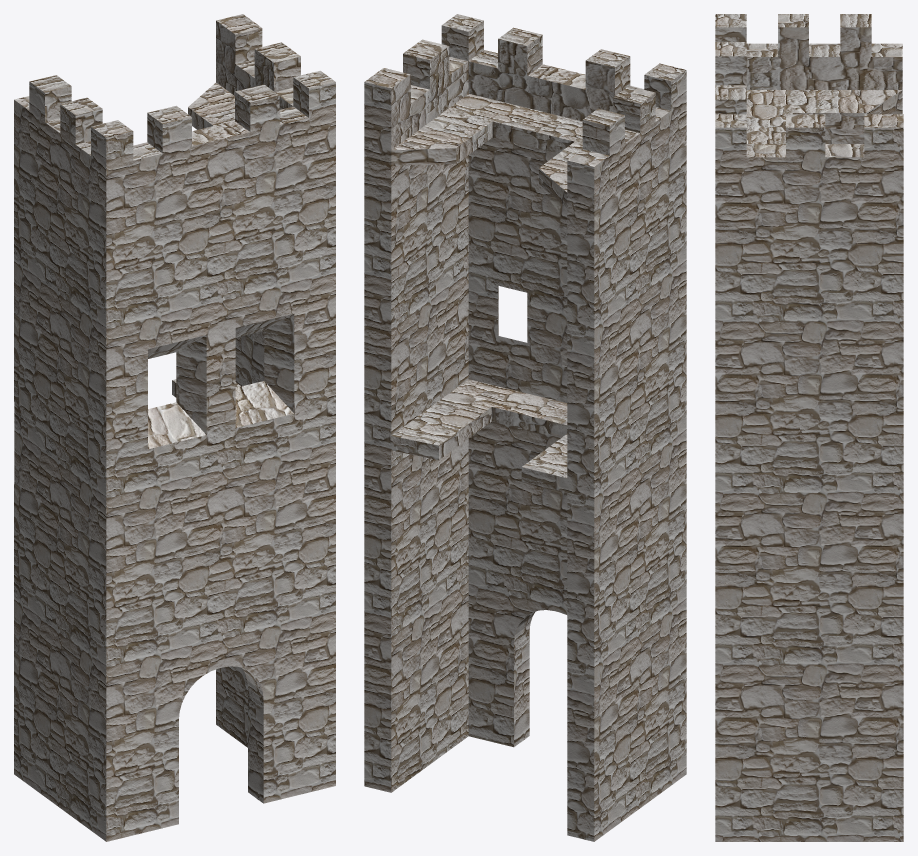
File: tower_5.fbx
The picture shows the model from 3 angles, left to right: view 1: azimuth 30°, elevation 25°; view 2: azimuth 150°, elevation 25°; view 3: azimuth 270°, elevation 25°; orthographic projection.
Visible parts, largest first — view 1: Cube.032; view 2: Cube.032; view 3: Cube.032.
Boxes of the visible parts, x1=… form: Cube.032: x1=14, y1=14, x2=335, y2=841; Cube.032: x1=364, y1=14, x2=686, y2=841; Cube.032: x1=715, y1=14, x2=903, y2=841.
Size of the model in its own units: 542 by 1589 by 380.
Materials: 1 (1 with a texture image).
